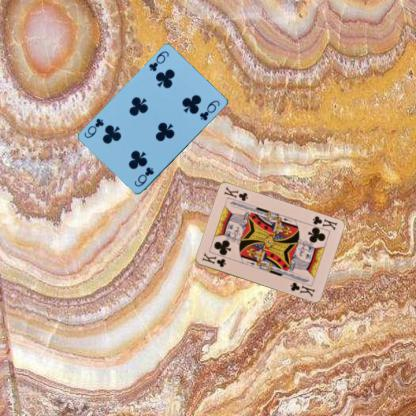6c: (146, 48, 171, 73), (132, 165, 155, 188)
Kc: (199, 250, 227, 269), (310, 213, 338, 232)
